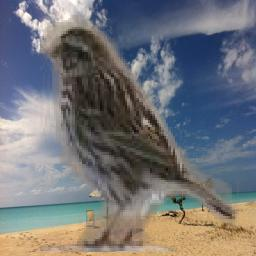Sparrow: (40, 16, 240, 253)
